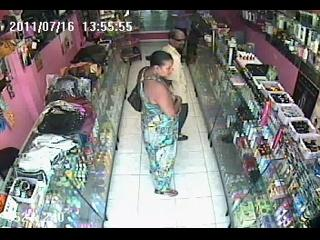Normal: (137, 50, 182, 198), (162, 28, 190, 141)
